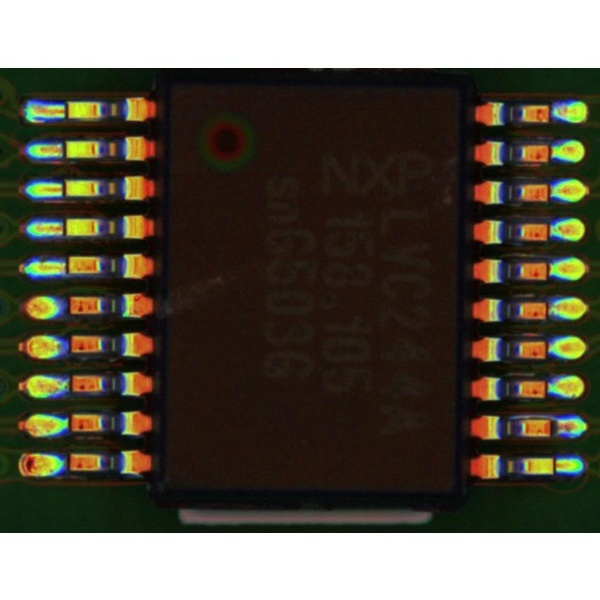Bad_podu: (540, 420, 571, 432), (54, 220, 78, 234), (544, 459, 569, 471), (51, 143, 75, 155), (53, 182, 76, 194), (54, 104, 77, 116), (53, 260, 73, 271)
Bad_qiaojiao: (510, 413, 558, 418)
